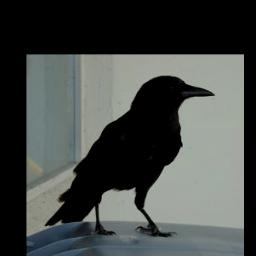Crow: (46, 75, 218, 239)
